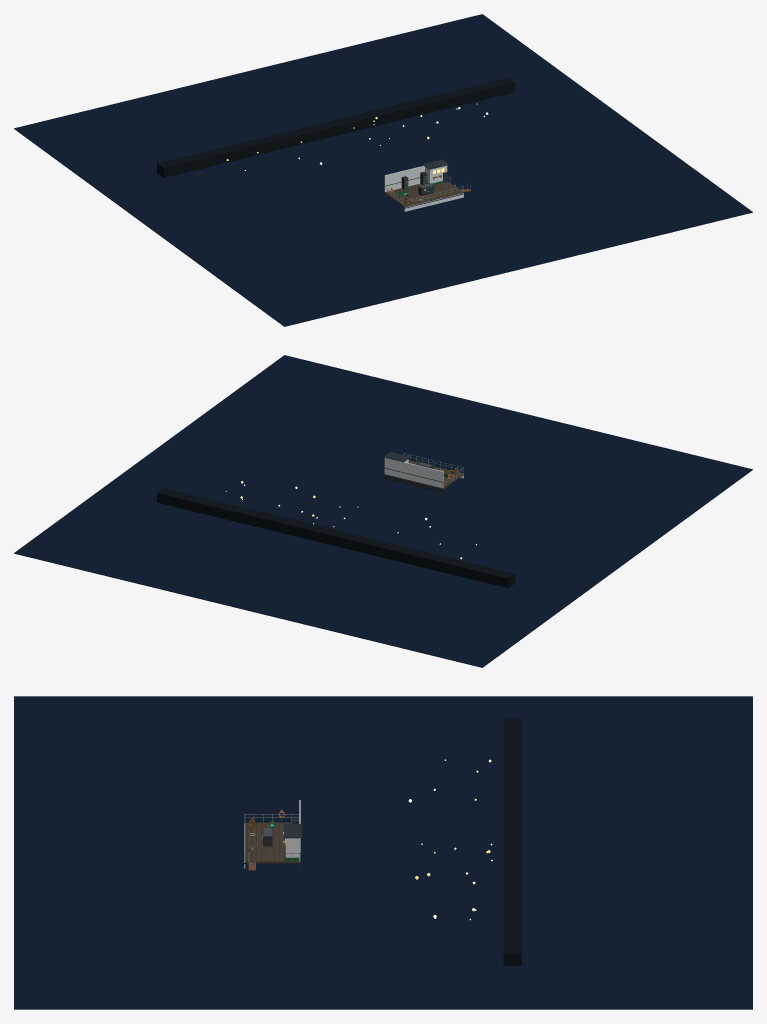
File: ferry.glb
3 renders of one model, top to bottom at view 1: azimuth 30°, elevation 25°; view 2: azimuth 150°, elevation 25°; view 3: azimuth 270°, elevation 25°, orthographic. The views are drawn at different scales.
Parts seen in each view (by area): view 1: Sea, FarShore, DeckBase, Bulkhead; view 2: Sea, FarShore, Bulkhead; view 3: Sea, FarShore, DeckBase.
Boxes of the visible parts, x1,y1,x2,y2 form: Sea: (14, 14, 752, 326); FarShore: (157, 77, 515, 177); DeckBase: (384, 181, 463, 207); Bulkhead: (384, 166, 424, 191); Sea: (14, 355, 752, 667); FarShore: (157, 488, 515, 588); Bulkhead: (384, 457, 443, 488); Sea: (14, 696, 752, 1009); FarShore: (503, 718, 521, 965); DeckBase: (245, 822, 299, 863).
Bounding box in the file's own units: 80 × 4.25 × 80.
